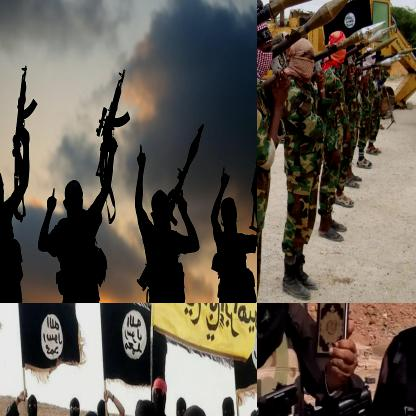rifle: (257, 0, 365, 142), (136, 123, 204, 294), (257, 0, 365, 67), (89, 63, 131, 185), (257, 375, 373, 415), (310, 18, 386, 70), (9, 62, 38, 198), (330, 20, 396, 60), (245, 112, 256, 233)
